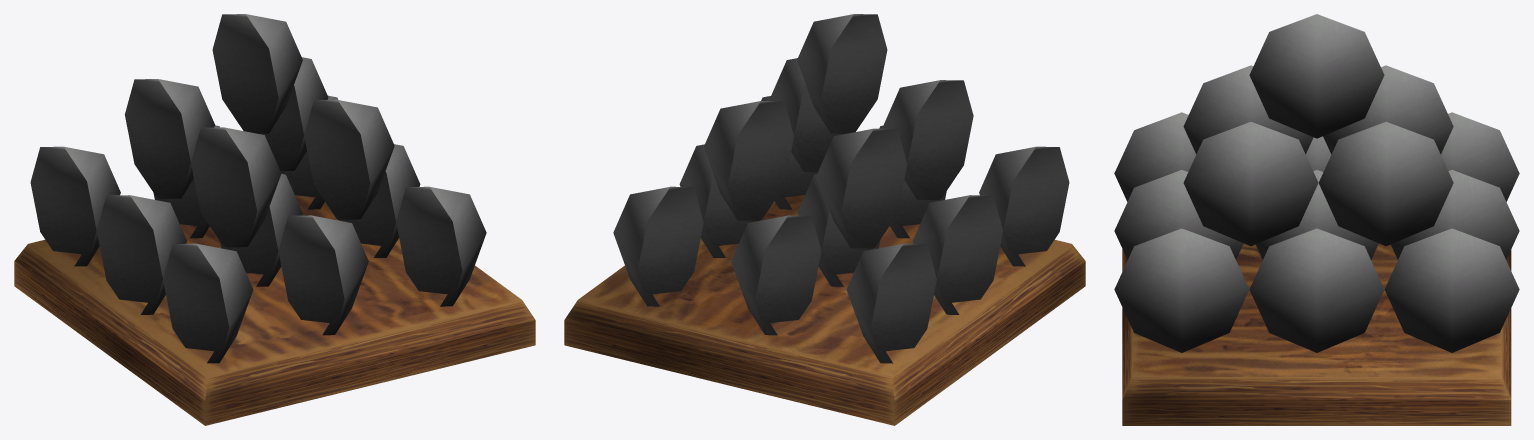
The model's file is deadminecannonballstack.obj.
3 renders of one model, left to right at view 1: azimuth 30°, elevation 25°; view 2: azimuth 150°, elevation 25°; view 3: azimuth 270°, elevation 25°, orthographic.
Visible parts, largest first — view 1: Geoset0, Geoset1; view 2: Geoset0, Geoset1; view 3: Geoset0, Geoset1.
Part boxes in pixels (x1,y1,x2,y2): Geoset0: [30, 14, 486, 363]; Geoset1: [14, 195, 535, 425]; Geoset0: [613, 14, 1069, 363]; Geoset1: [564, 195, 1085, 425]; Geoset0: [1114, 14, 1519, 352]; Geoset1: [1122, 243, 1511, 425].
Bounding box in the file's own units: 1.8 × 1.61 × 1.88.
Materials: 2 (2 with a texture image).
